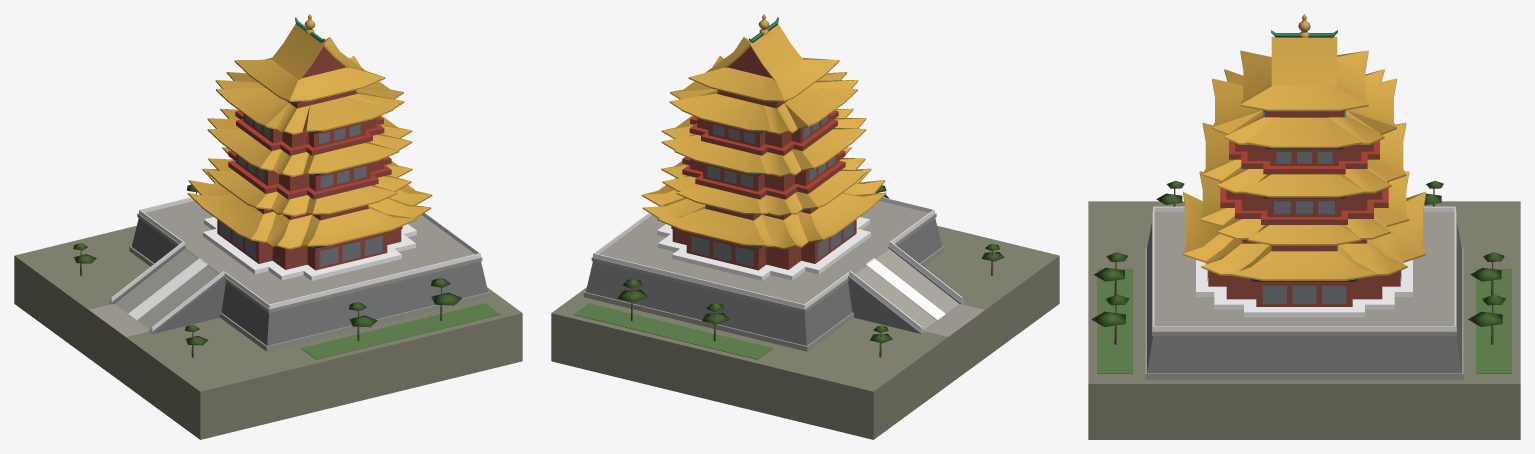
File: far.fbx
3 views of the same model, side by side, from view 1: azimuth 30°, elevation 25°; view 2: azimuth 150°, elevation 25°; view 3: azimuth 270°, elevation 25° (orthographic). The views are drawn at different scales.
Visible parts, largest first — view 1: landmark-grand_pavilion/0/far; view 2: landmark-grand_pavilion/0/far; view 3: landmark-grand_pavilion/0/far.
Part boxes in pixels (x1,y1,x2,y2): landmark-grand_pavilion/0/far: (14,14,522,439); landmark-grand_pavilion/0/far: (551,14,1059,439); landmark-grand_pavilion/0/far: (1088,14,1520,439).
Bounding box in the file's own units: 70 × 64 × 70.
